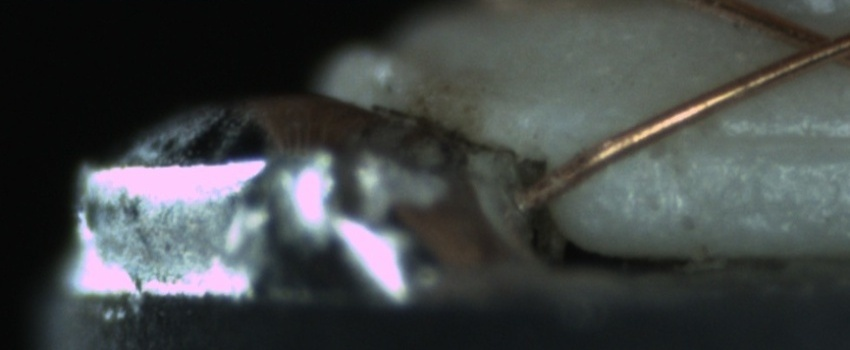CL: (772, 14, 850, 74)
DL: (680, 106, 848, 173)
